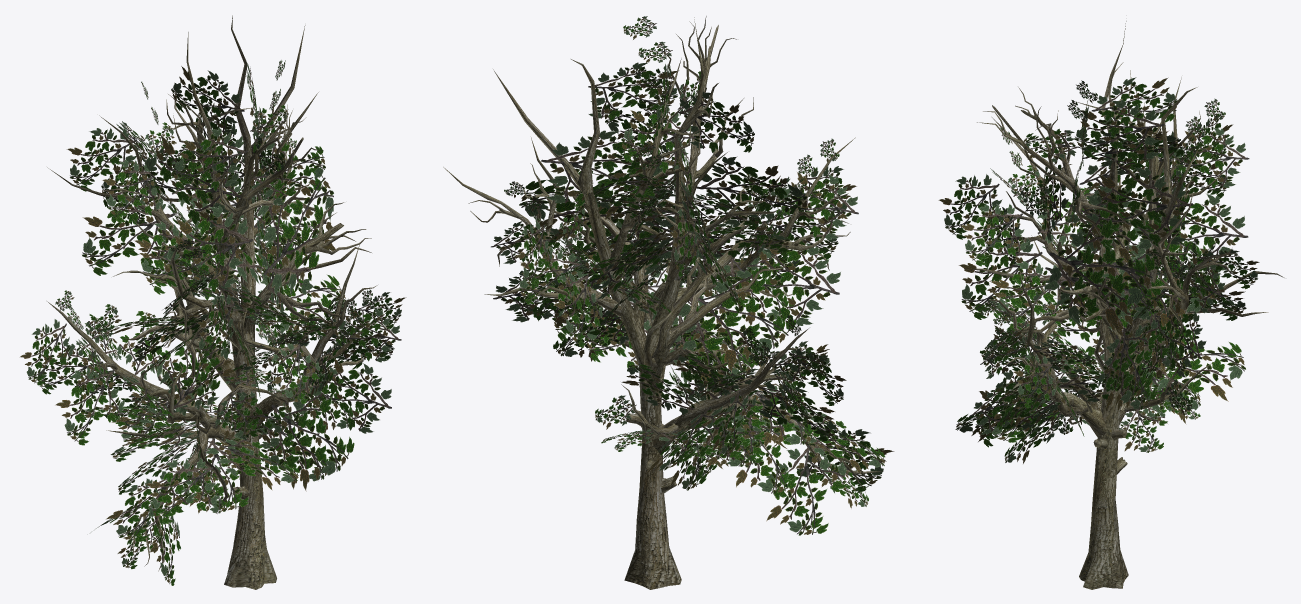
File: Branch 1.fbx
3 views of the same model, side by side, from view 1: azimuth 30°, elevation 25°; view 2: azimuth 150°, elevation 25°; view 3: azimuth 270°, elevation 25° (orthographic). The views are drawn at different scales.
Parts seen in each view (by area): view 1: Branches1, TreePart1; view 2: Branches1, TreePart1; view 3: Branches1, TreePart1.
Boxes of the visible parts, x1=… form: Branches1: x1=19, y1=60, x2=406, y2=585; TreePart1: x1=47, y1=15, x2=389, y2=589; Branches1: x1=491, y1=16, x2=894, y2=535; TreePart1: x1=443, y1=16, x2=883, y2=589; Branches1: x1=938, y1=77, x2=1259, y2=463; TreePart1: x1=964, y1=21, x2=1284, y2=589.
Bounding box in the file's own units: 4.42 × 6.73 × 3.99.
